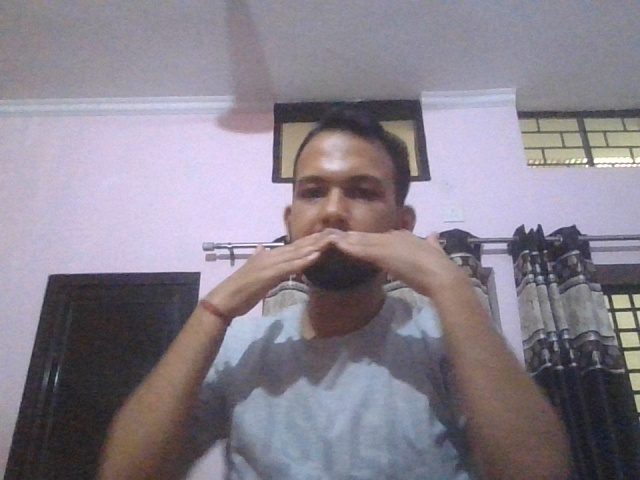thanks: (205, 227, 485, 316)
